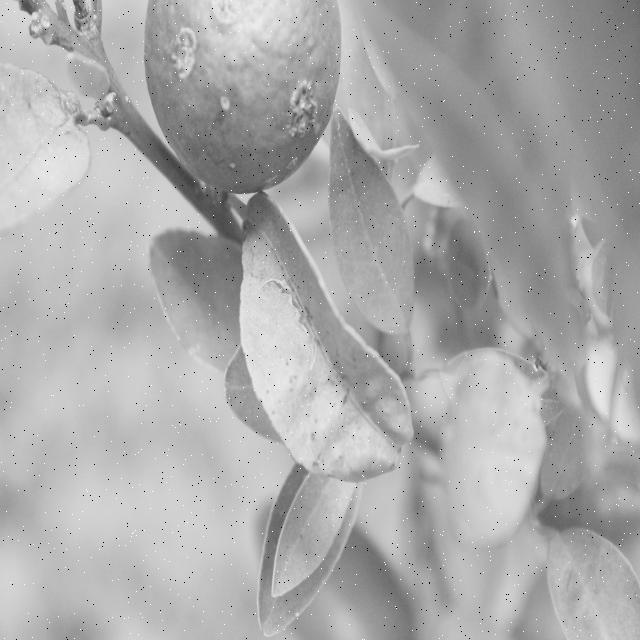blackspot: (267, 314, 374, 468)
